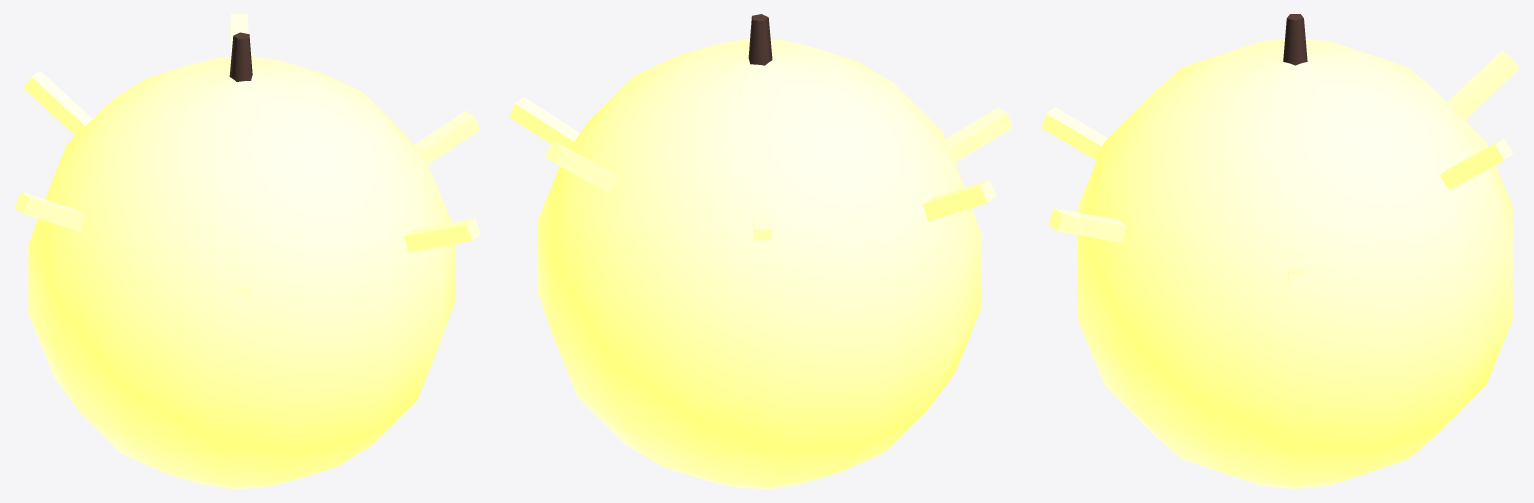
File: fruit-coconut-shocked.gltf
3 views of the same model, side by side, from view 1: azimuth 30°, elevation 25°; view 2: azimuth 150°, elevation 25°; view 3: azimuth 270°, elevation 25° (orthographic). The views are drawn at different scales.
Size of the model in its own units: 0.6821 by 0.616 by 0.5911.
